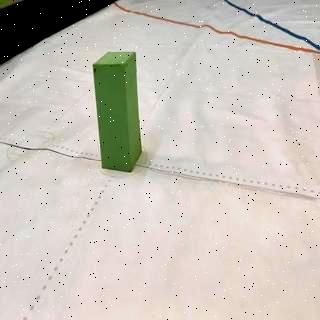greenbox: (92, 51, 142, 172)
